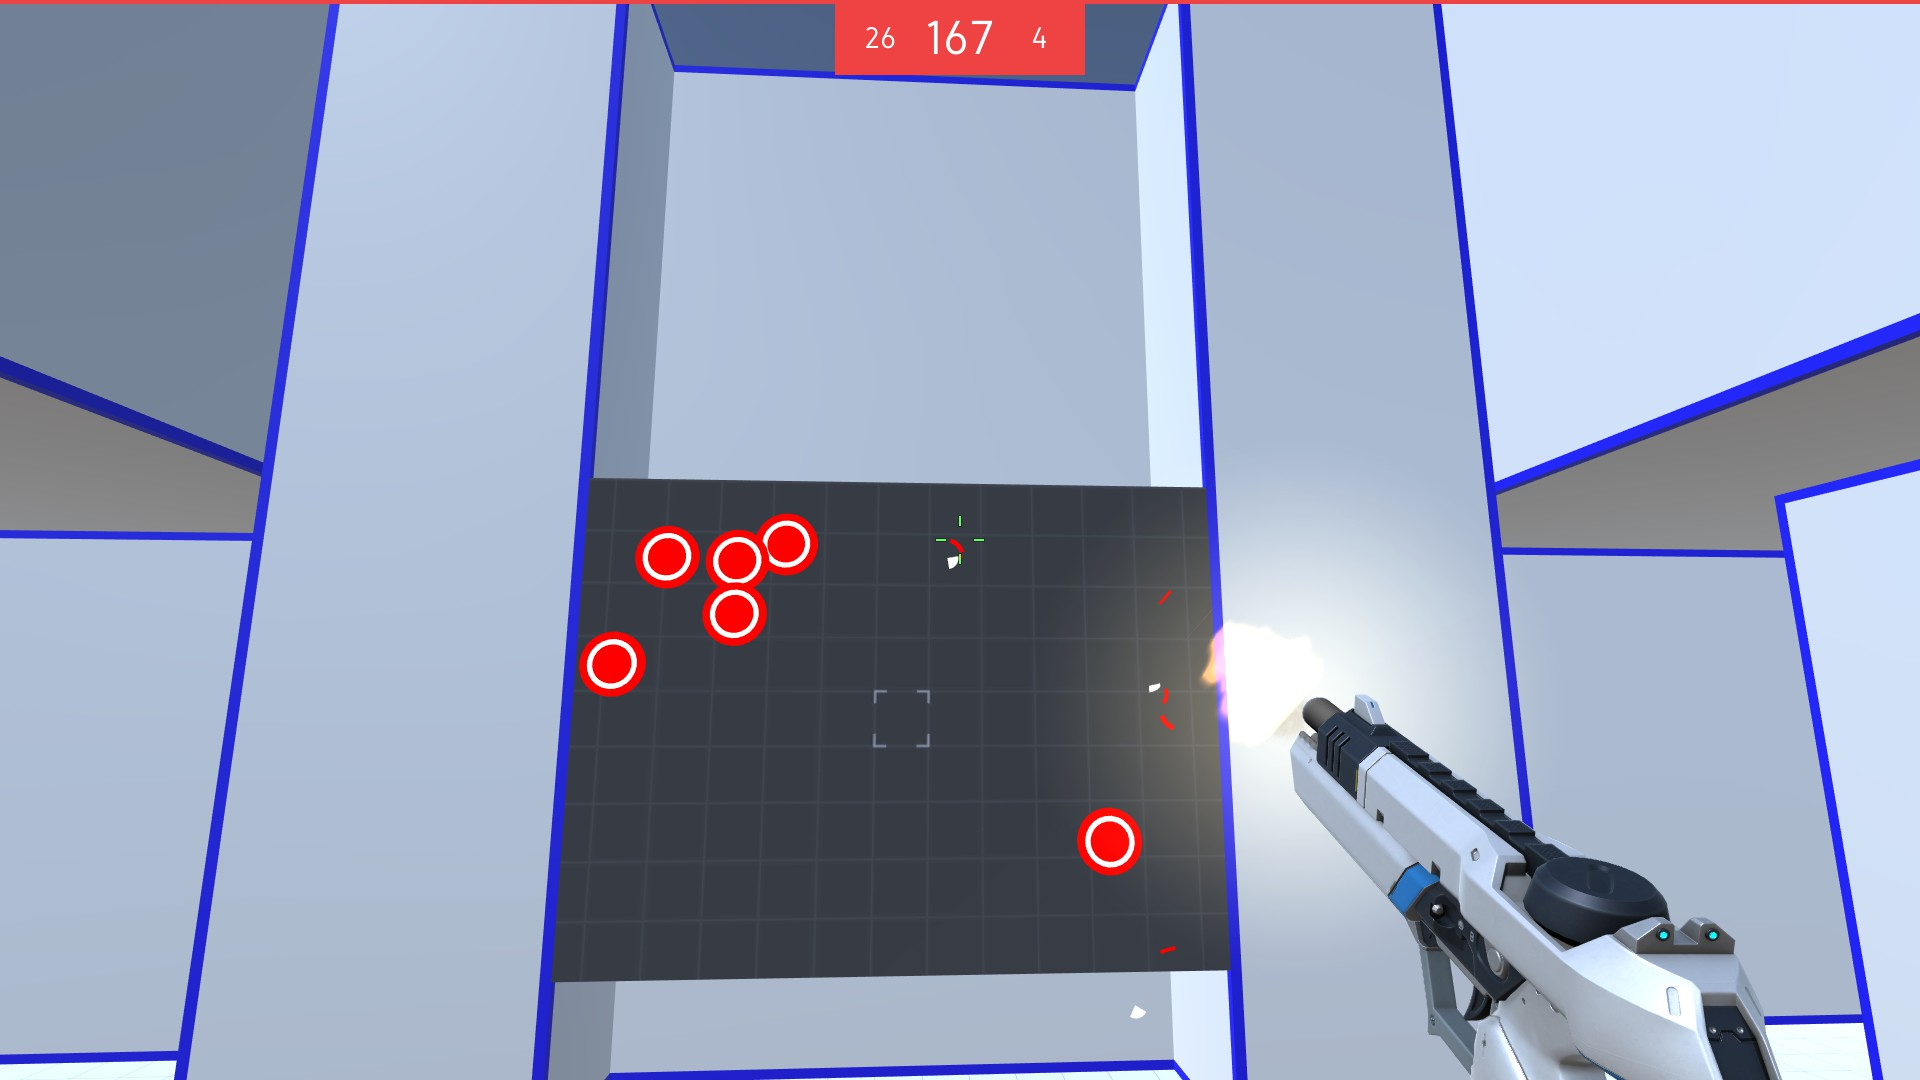target: (1072, 804, 1149, 877), (578, 628, 647, 703), (702, 582, 769, 649), (756, 512, 822, 578), (633, 526, 702, 589), (705, 527, 769, 589)
